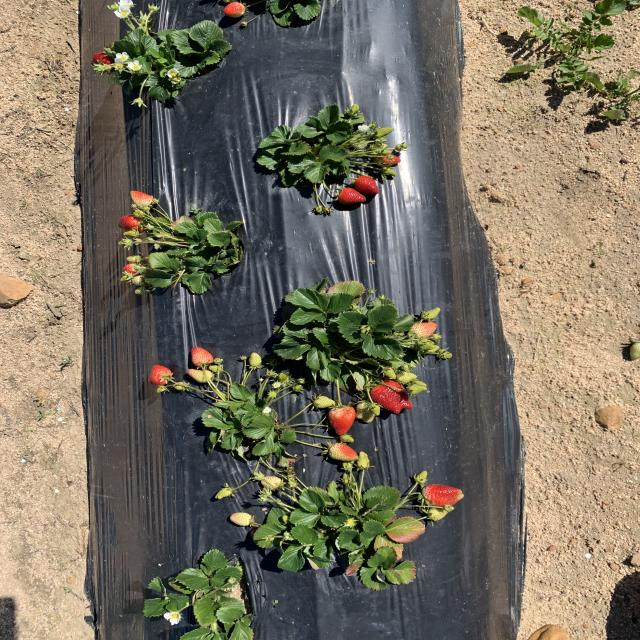unripe: (369, 380, 413, 416), (420, 484, 465, 507), (329, 406, 356, 434), (117, 214, 149, 234), (91, 52, 123, 70), (147, 364, 173, 384), (337, 188, 367, 205), (189, 346, 215, 365), (354, 176, 380, 194), (373, 153, 400, 165), (122, 262, 146, 275), (223, 3, 244, 17)
